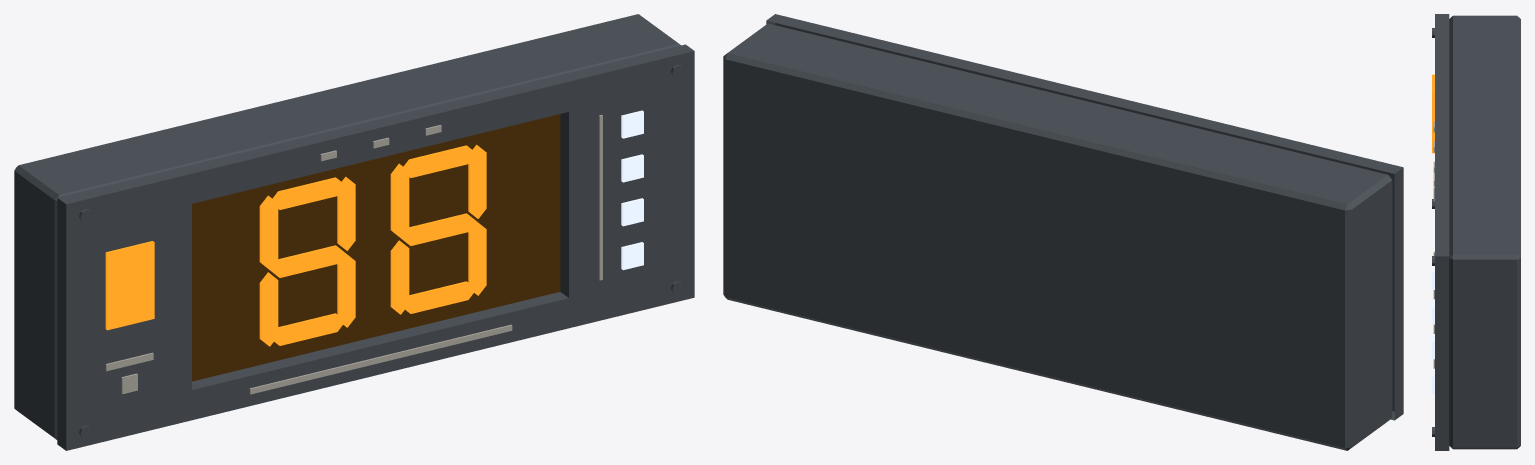
Rendered from door_monitor.glb.
3 renders of one model, left to right at view 1: azimuth 30°, elevation 25°; view 2: azimuth 150°, elevation 25°; view 3: azimuth 270°, elevation 25°, orthographic. The views are drawn at different scales.
Visible parts, largest first — view 1: Mon_Housing, Mon_Screen, Mon_Status_Lamp, Mon_Seg_Tens_G, Mon_Seg_Units_G, Mon_Seg_Tens_A, Mon_Seg_Tens_D, Mon_Seg_Tens_F, Mon_Seg_Units_A, Mon_Seg_Tens_E, Mon_Seg_Units_D, Mon_Seg_Units_E (+5 smaller); view 2: Mon_Housing; view 3: Mon_Housing, Mon_Status_Lamp.
Part boxes in pixels (x1,y1,x2,y2): Mon_Housing: [14, 14, 694, 450]; Mon_Screen: [192, 114, 560, 381]; Mon_Status_Lamp: [105, 241, 154, 330]; Mon_Seg_Tens_G: [270, 245, 345, 277]; Mon_Seg_Units_G: [401, 213, 476, 245]; Mon_Seg_Tens_A: [272, 177, 345, 209]; Mon_Seg_Tens_D: [271, 313, 345, 345]; Mon_Seg_Tens_F: [259, 195, 278, 269]; Mon_Seg_Units_A: [402, 145, 473, 177]; Mon_Seg_Tens_E: [259, 272, 278, 346]; Mon_Seg_Units_D: [402, 281, 473, 313]; Mon_Seg_Units_E: [390, 240, 409, 314]; Mon_Housing: [723, 14, 1403, 450]; Mon_Housing: [1432, 14, 1520, 450]; Mon_Status_Lamp: [1432, 74, 1434, 153].
Size of the model in its own units: 1.2 by 0.45 by 0.186.
